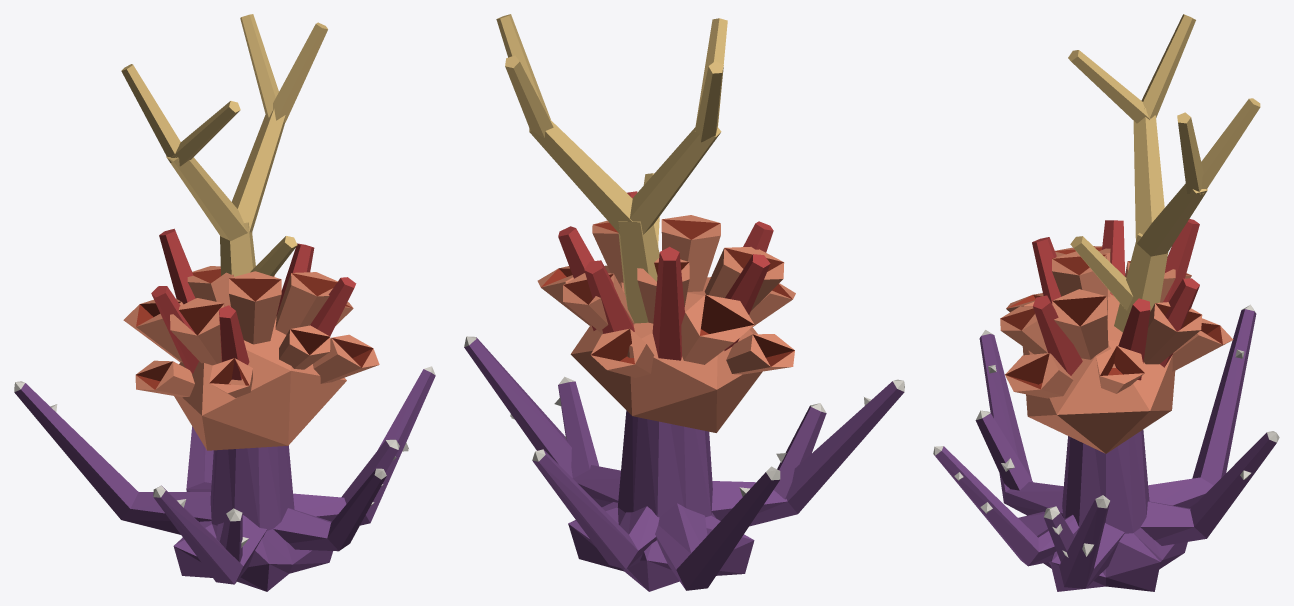
File: reef_soft_coral.glb
3 renders of one model, left to right at view 1: azimuth 30°, elevation 25°; view 2: azimuth 150°, elevation 25°; view 3: azimuth 270°, elevation 25°, orthographic. The views are drawn at different scales.
Visible parts, largest first — view 1: ReefSoftCoral; view 2: ReefSoftCoral; view 3: ReefSoftCoral.
Part boxes in pixels (x1=…): ReefSoftCoral: x1=14, y1=14, x2=435, y2=591; ReefSoftCoral: x1=464, y1=14, x2=904, y2=591; ReefSoftCoral: x1=933, y1=14, x2=1279, y2=591.
Bounding box in the file's own units: 0.8218 × 1.09 × 0.6758.
